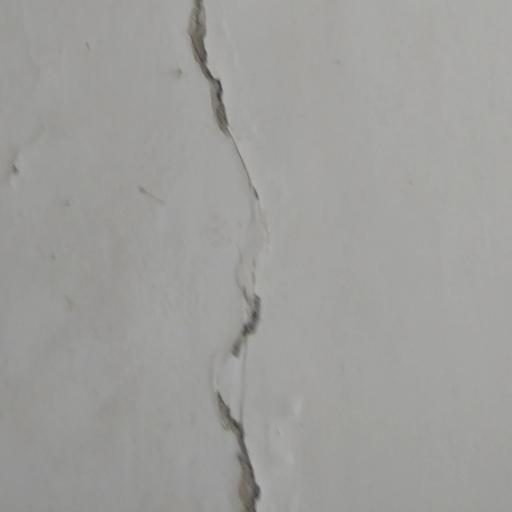peeling: (180, 0, 286, 512)
